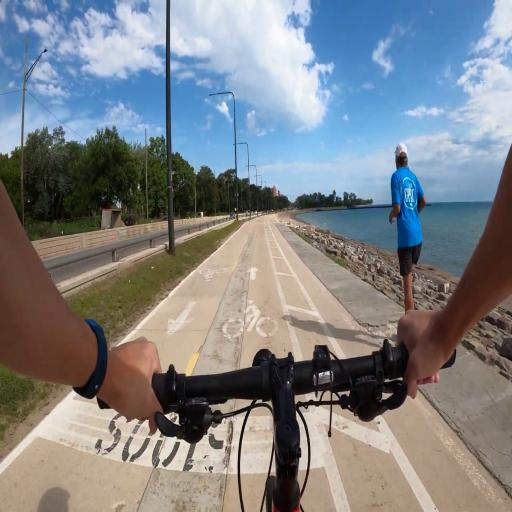Street_Light: (16, 26, 52, 238), (160, 0, 178, 260), (207, 84, 239, 220), (231, 137, 252, 211), (245, 158, 258, 193), (252, 170, 263, 192), (261, 180, 266, 192)
